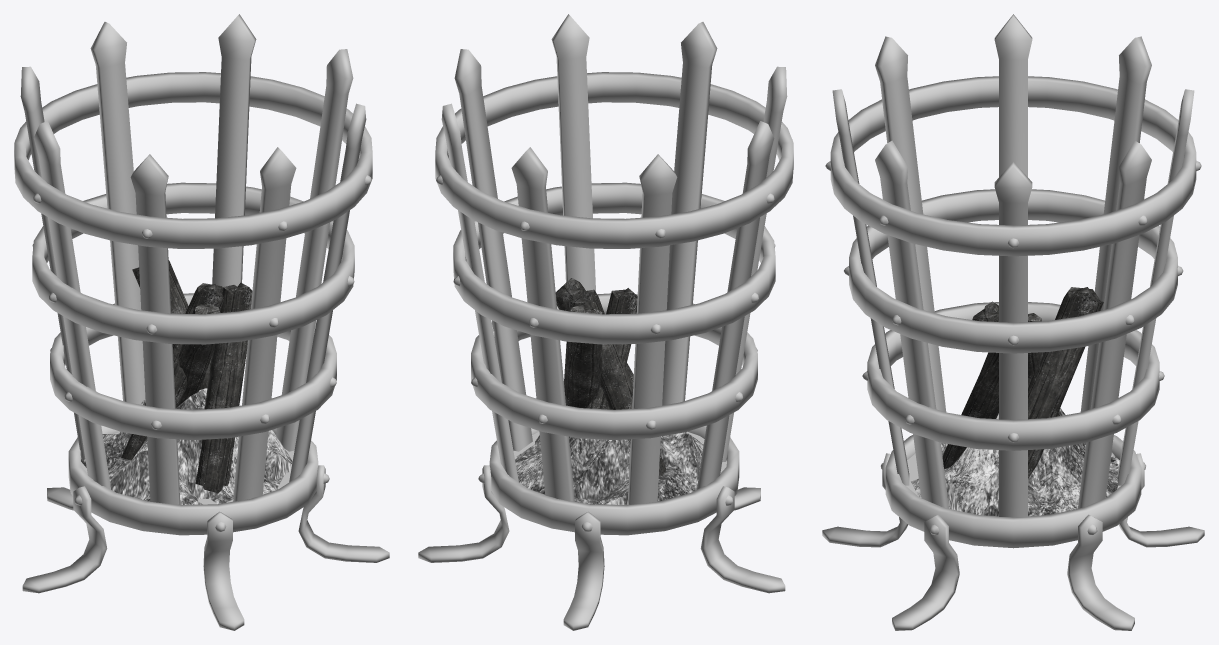
File: SM_Brazier_C.fbx
3 views of the same model, side by side, from view 1: azimuth 30°, elevation 25°; view 2: azimuth 150°, elevation 25°; view 3: azimuth 270°, elevation 25° (orthographic).
Parts seen in each view (by area): view 1: SM_Brazier_C_LOD0; view 2: SM_Brazier_C_LOD0; view 3: SM_Brazier_C_LOD0.
Part boxes in pixels (x1,y1,x2,y2): SM_Brazier_C_LOD0: (14, 14, 389, 630); SM_Brazier_C_LOD0: (418, 14, 793, 630); SM_Brazier_C_LOD0: (822, 14, 1204, 630).
Bounding box in the file's own units: 60.75 × 59.67 × 81.5.
Materials: 2 (1 with a texture image).
